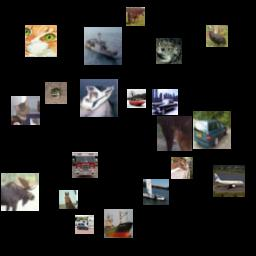airplane: (213, 165, 245, 197)
automobile: (193, 111, 231, 149), (152, 89, 178, 115), (75, 215, 94, 234)
bird: (206, 25, 228, 47)
cat: (25, 25, 57, 57), (11, 96, 40, 125)
deer: (1, 173, 39, 211), (171, 157, 193, 179)
frog: (156, 38, 182, 64), (45, 82, 67, 104)
ship: (84, 27, 122, 65), (80, 79, 118, 117), (104, 209, 133, 238), (143, 179, 169, 205), (127, 89, 146, 108)
truck: (72, 152, 98, 178)
